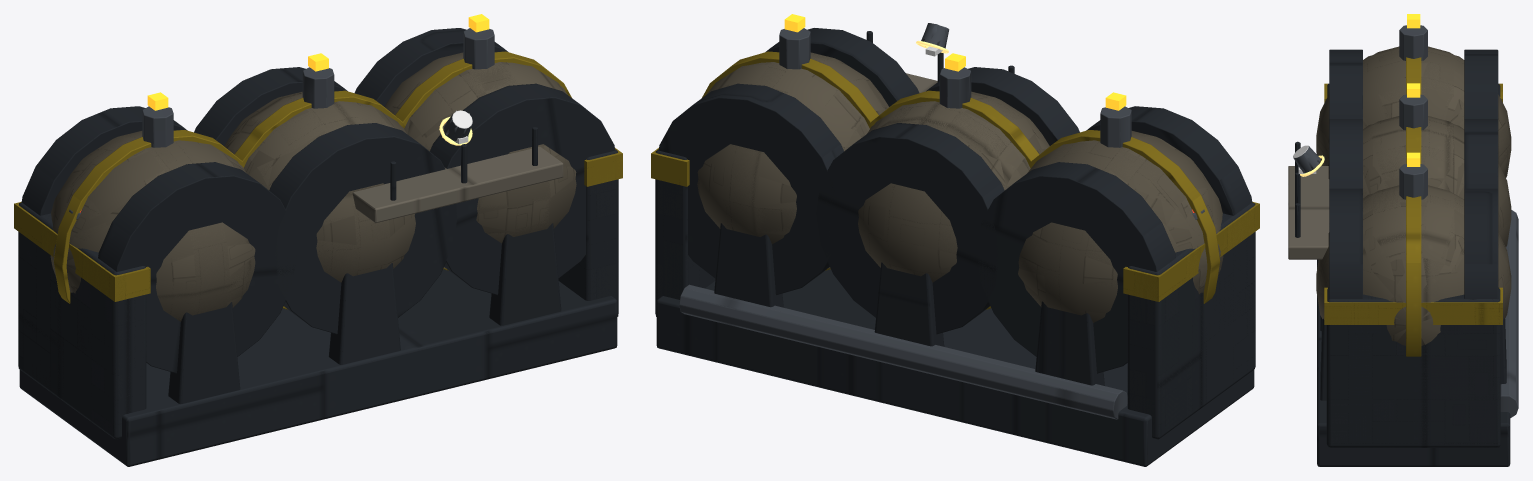
The model's file is place_slurry_tank.glb.
The picture shows the model from 3 angles, left to right: view 1: azimuth 30°, elevation 25°; view 2: azimuth 150°, elevation 25°; view 3: azimuth 270°, elevation 25°; orthographic projection. The views are drawn at different scales.
Visible parts, largest first — view 1: LOD0_Armor, LOD0_deadmetal_dome, LOD1_Armor, LOD1_deadmetal_dome, LOD0_Warning, LOD2_deadmetal_dome, LOD0_Hull_aged, LOD0_Mechanical, LOD1_Warning, LOD0_Beacon_Amber; view 2: LOD0_Armor, LOD0_deadmetal_dome, LOD0_Mechanical, LOD1_deadmetal_dome, LOD0_Warning, LOD1_Armor, LOD2_deadmetal_dome, LOD1_Warning, LOD0_Beacon_Amber; view 3: LOD0_Armor, LOD0_deadmetal_dome, LOD1_Armor, LOD1_deadmetal_dome, LOD0_Warning, LOD2_deadmetal_dome, LOD0_Mechanical, LOD0_Hull_aged, LOD1_Warning, LOD0_Beacon_Amber.
Part boxes in pixels (bbox=[...]): LOD0_Armor: bbox=[18, 28, 618, 466]; LOD0_deadmetal_dome: bbox=[51, 52, 576, 321]; LOD1_Armor: bbox=[18, 28, 618, 466]; LOD1_deadmetal_dome: bbox=[50, 58, 575, 321]; LOD0_Warning: bbox=[14, 51, 622, 309]; LOD2_deadmetal_dome: bbox=[51, 61, 576, 307]; LOD0_Hull_aged: bbox=[352, 146, 563, 222]; LOD0_Mechanical: bbox=[69, 28, 494, 219]; LOD1_Warning: bbox=[14, 51, 622, 309]; LOD0_Beacon_Amber: bbox=[147, 14, 489, 110]; LOD0_Armor: bbox=[655, 28, 1255, 466]; LOD0_deadmetal_dome: bbox=[697, 52, 1223, 314]; LOD0_Mechanical: bbox=[679, 23, 1204, 419]; LOD1_deadmetal_dome: bbox=[698, 53, 1220, 315]; LOD0_Warning: bbox=[651, 51, 1259, 309]; LOD1_Armor: bbox=[655, 28, 1255, 466]; LOD2_deadmetal_dome: bbox=[697, 58, 1222, 322]; LOD1_Warning: bbox=[651, 57, 1259, 308]; LOD0_Beacon_Amber: bbox=[784, 14, 1126, 110]; LOD0_Armor: bbox=[1295, 49, 1510, 466]; LOD0_deadmetal_dome: bbox=[1316, 46, 1511, 345]; LOD1_Armor: bbox=[1296, 50, 1509, 466]; LOD1_deadmetal_dome: bbox=[1316, 47, 1511, 344]; LOD0_Warning: bbox=[1324, 57, 1502, 356]; LOD2_deadmetal_dome: bbox=[1316, 55, 1510, 341]; LOD0_Mechanical: bbox=[1293, 25, 1518, 417]; LOD0_Hull_aged: bbox=[1288, 166, 1329, 259]; LOD1_Warning: bbox=[1324, 57, 1502, 355]; LOD0_Beacon_Amber: bbox=[1407, 14, 1420, 166].
Size of what is drawn, in the model's own units: 11.04 by 6.3 by 4.78.
Materials: 15 (12 with a texture image).
